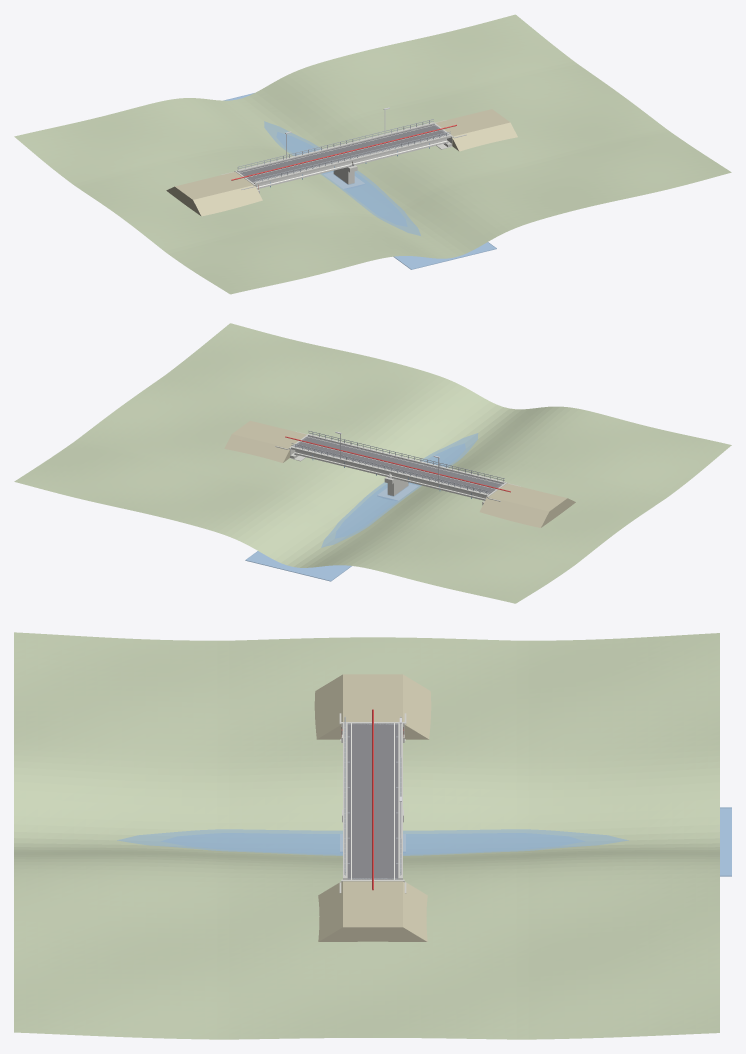
The picture shows the model from 3 angles, top to bottom: view 1: azimuth 30°, elevation 25°; view 2: azimuth 150°, elevation 25°; view 3: azimuth 270°, elevation 25°; orthographic projection. The views are drawn at different scales.
Parts seen in each view (by area): view 1: 地形|現況地形 (参考), 地形|水面 (参考), 上部工|舗装 (アスファルト t=8cm), 土工|取付部盛土 (起点側, 参考), 土工|取付部盛土 (終点側, 参考), 上部工|地覆 (左), 附属物|高欄 (左, 支柱31本), 上部工|地覆 (右), 附属物|高欄 (右, 支柱31本), 完成設備|路面標示 (中央線・外側線), 上部工|主桁 G5 (PC T桁 H=1.9m, 第1径間), 上部工|主桁 G5 (PC T桁 H=1.9m, 第2径間); view 2: 地形|現況地形 (参考), 地形|水面 (参考), 上部工|舗装 (アスファルト t=8cm), 土工|取付部盛土 (起点側, 参考), 土工|取付部盛土 (終点側, 参考), 上部工|地覆 (右), 附属物|高欄 (左, 支柱31本), 附属物|高欄 (右, 支柱31本), 上部工|地覆 (左), 完成設備|路面標示 (中央線・外側線), 上部工|主桁 G1 (PC T桁 H=1.9m, 第2径間), 上部工|主桁 G1 (PC T桁 H=1.9m, 第1径間); view 3: 地形|現況地形 (参考), 地形|水面 (参考), 上部工|舗装 (アスファルト t=8cm), 土工|取付部盛土 (終点側, 参考), 土工|取付部盛土 (起点側, 参考), 上部工|地覆 (左), 上部工|地覆 (右).
Part boxes in pixels (x1,y1,x2,y2): 地形|現況地形 (参考): [14, 14, 731, 294]; 地形|水面 (参考): [223, 93, 496, 269]; 上部工|舗装 (アスファルト t=8cm): [238, 124, 448, 182]; 土工|取付部盛土 (起点側, 参考): [166, 172, 262, 216]; 土工|取付部盛土 (終点側, 参考): [435, 109, 517, 151]; 上部工|地覆 (左): [254, 135, 451, 184]; 附属物|高欄 (左, 支柱31本): [254, 131, 450, 182]; 上部工|地覆 (右): [237, 122, 434, 171]; 附属物|高欄 (右, 支柱31本): [237, 119, 433, 169]; 完成設備|路面標示 (中央線・外側線): [239, 125, 448, 182]; 上部工|主桁 G5 (PC T桁 H=1.9m, 第1径間): [256, 162, 350, 189]; 上部工|主桁 G5 (PC T桁 H=1.9m, 第2径間): [352, 138, 447, 165]; 地形|現況地形 (参考): [14, 323, 731, 603]; 地形|水面 (参考): [245, 433, 478, 581]; 上部工|舗装 (アスファルト t=8cm): [293, 436, 503, 494]; 土工|取付部盛土 (起点側, 参考): [479, 483, 575, 527]; 土工|取付部盛土 (終点側, 参考): [224, 420, 306, 462]; 上部工|地覆 (右): [291, 446, 488, 496]; 附属物|高欄 (左, 支柱31本): [308, 430, 504, 481]; 附属物|高欄 (右, 支柱31本): [291, 443, 487, 494]; 上部工|地覆 (左): [308, 434, 505, 483]; 完成設備|路面標示 (中央線・外側線): [294, 436, 502, 493]; 上部工|主桁 G1 (PC T桁 H=1.9m, 第2径間): [294, 450, 389, 477]; 上部工|主桁 G1 (PC T桁 H=1.9m, 第1径間): [391, 474, 486, 500]; 地形|現況地形 (参考): [14, 632, 719, 1039]; 地形|水面 (参考): [117, 807, 731, 876]; 上部工|舗装 (アスファルト t=8cm): [347, 723, 398, 879]; 土工|取付部盛土 (終点側, 参考): [318, 881, 427, 941]; 土工|取付部盛土 (起点側, 参考): [314, 674, 431, 739]; 上部工|地覆 (左): [343, 722, 347, 879]; 上部工|地覆 (右): [398, 722, 402, 879].
Size of the model in its own units: 158 by 32.6 by 120.
